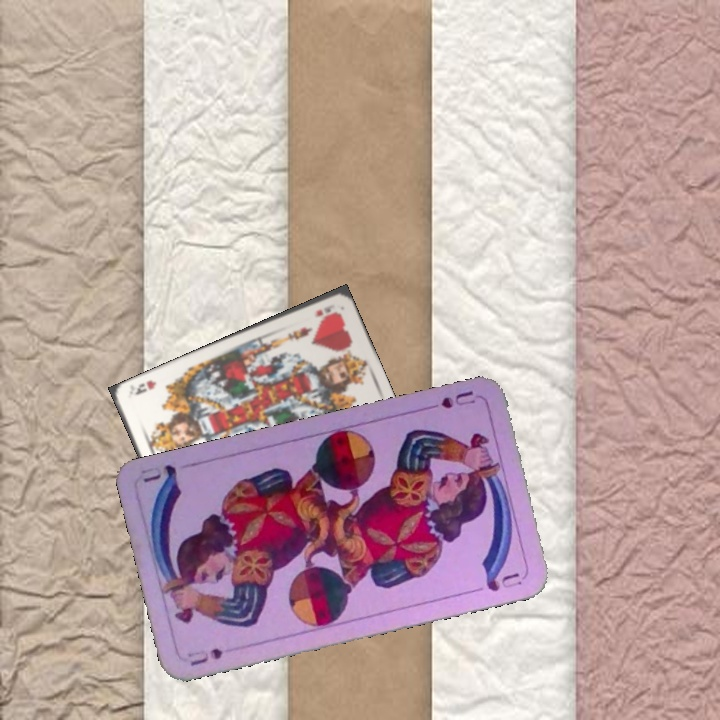HK: (311, 300, 336, 320)
SU: (421, 386, 478, 412), (183, 644, 226, 669)
